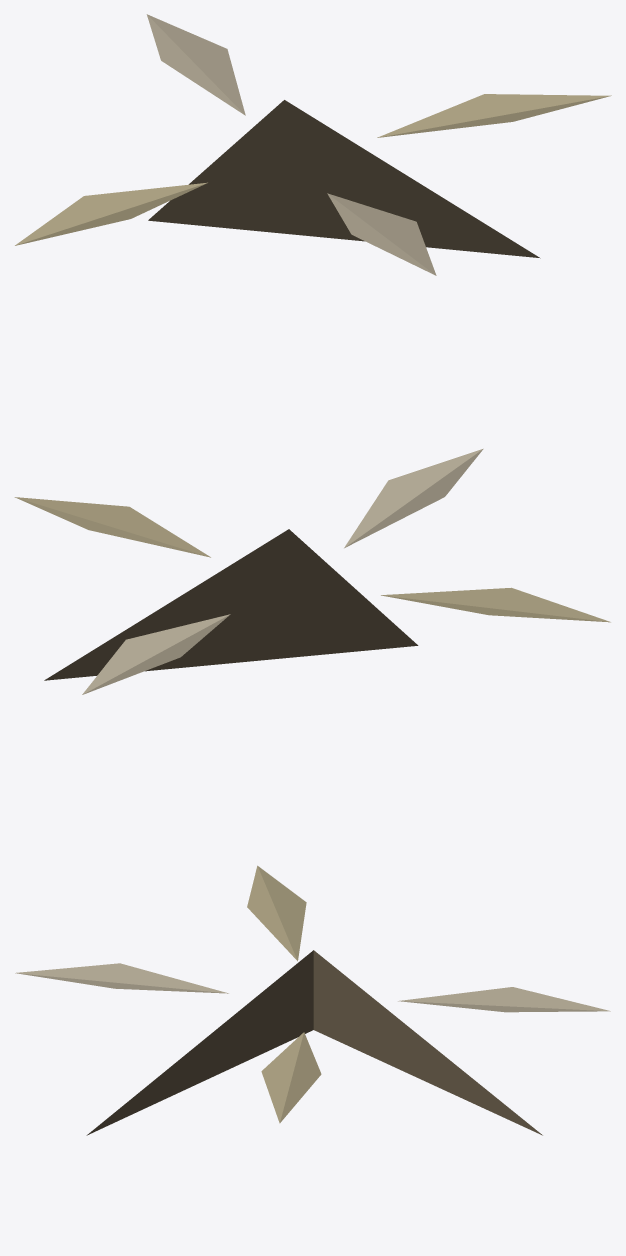
The model's file is nong.su@withered__summer.glb.
3 renders of one model, top to bottom at view 1: azimuth 30°, elevation 25°; view 2: azimuth 150°, elevation 25°; view 3: azimuth 270°, elevation 25°, orthographic. The views are drawn at different scales.
Parts seen in each view (by area): view 1: nong.su@withered__summer; view 2: nong.su@withered__summer; view 3: nong.su@withered__summer.
Boxes of the visible parts, x1,y1,x2,y2 form: nong.su@withered__summer: [15, 14, 611, 275]; nong.su@withered__summer: [14, 448, 610, 694]; nong.su@withered__summer: [15, 865, 610, 1135].
Size of the model in its own units: 0.243 by 0.084 by 0.2446.
